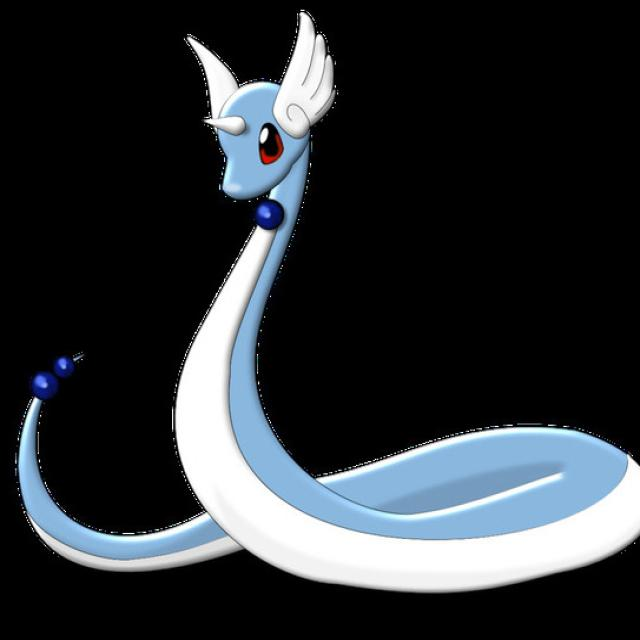Dragonair: (146, 27, 640, 586)
